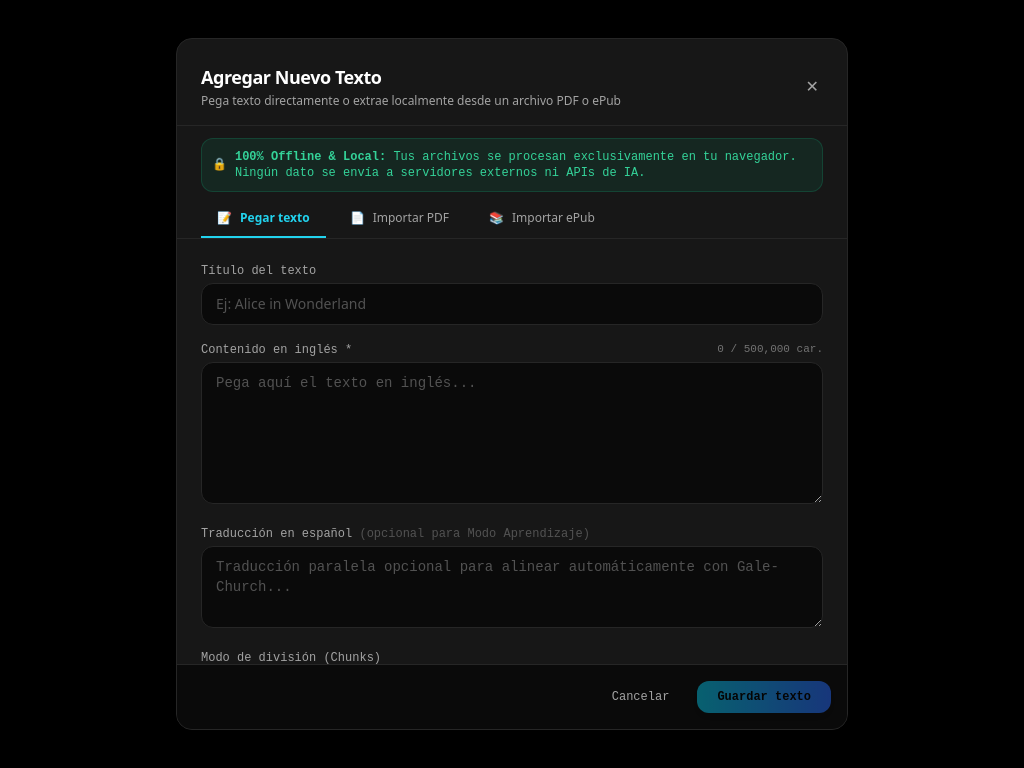
Scenario: ImporterModal › switches tabs between Paste, PDF and ePub
Note:  PDF Tab
Click the button "📄 Importar PDF" at (399, 219), box [334,200,465,238]
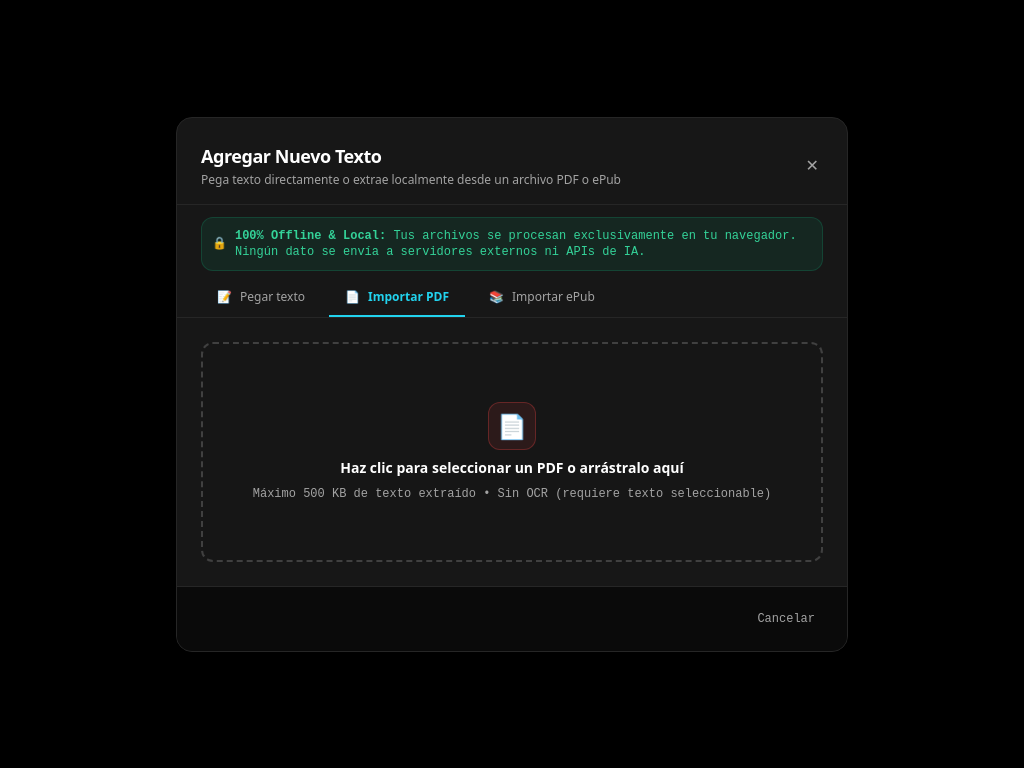
Expected: the element named "Zona de carga de PDF" is shown, [201,342,823,562]
Note: ePub Tab
Click the button "📚 Importar ePub" at (542, 298), box [473,278,611,316]
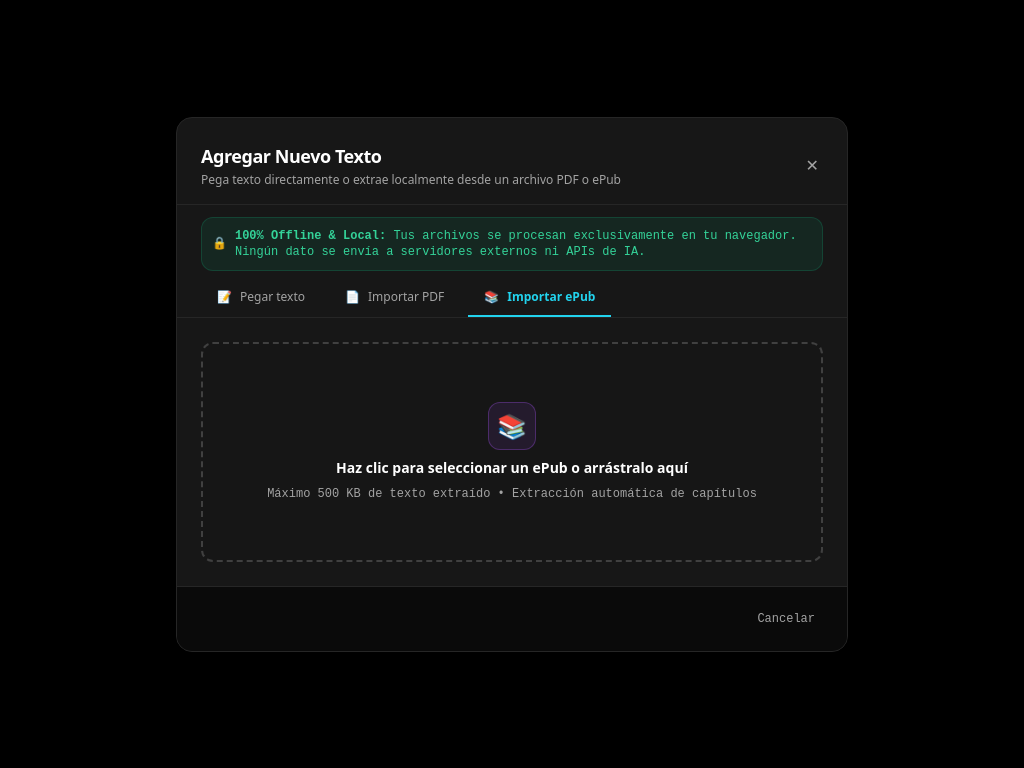
Expected: the element named "Zona de carga de ePub" is shown, [201,342,823,562]
Note: Back to Paste Tab
Click the button "📝 Pegar texto" at (261, 298), box [201,278,321,316]
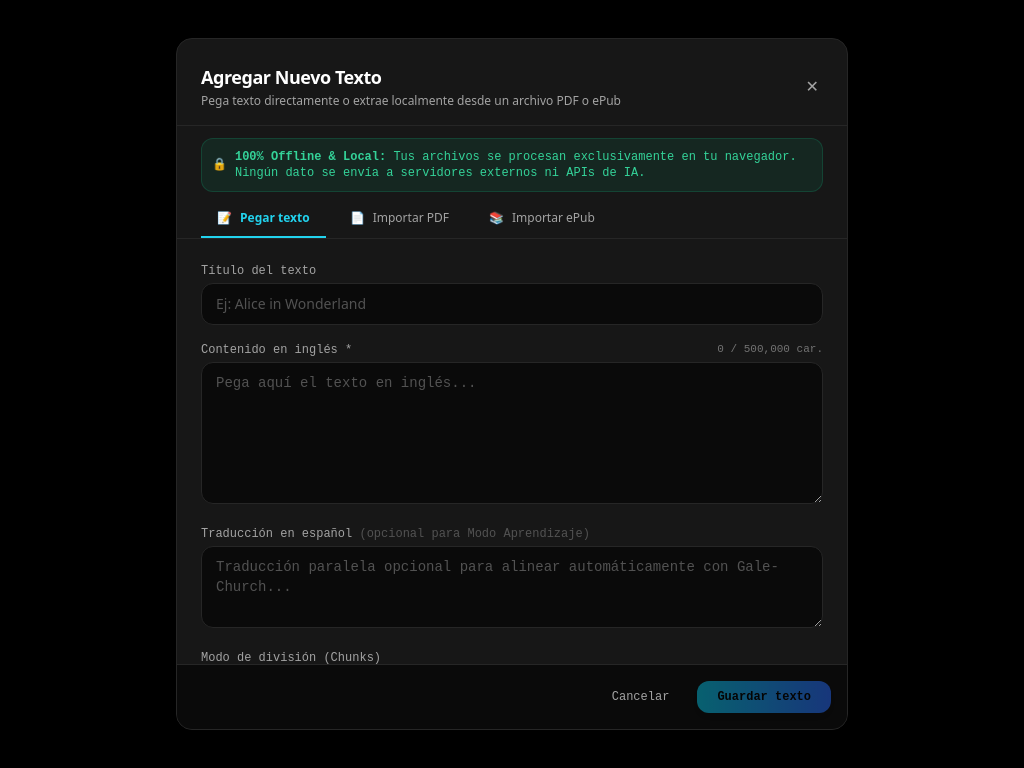
Expected: the text box with placeholder "Pega aquí el texto en inglés..." is shown, [201,362,823,504]
